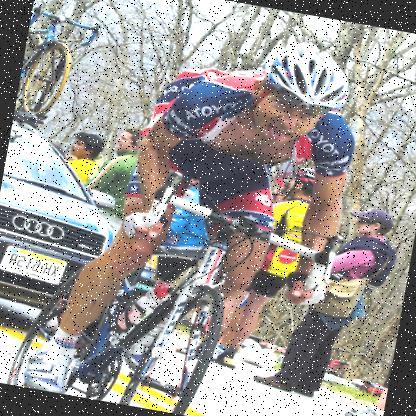Car: (0, 120, 131, 345)
